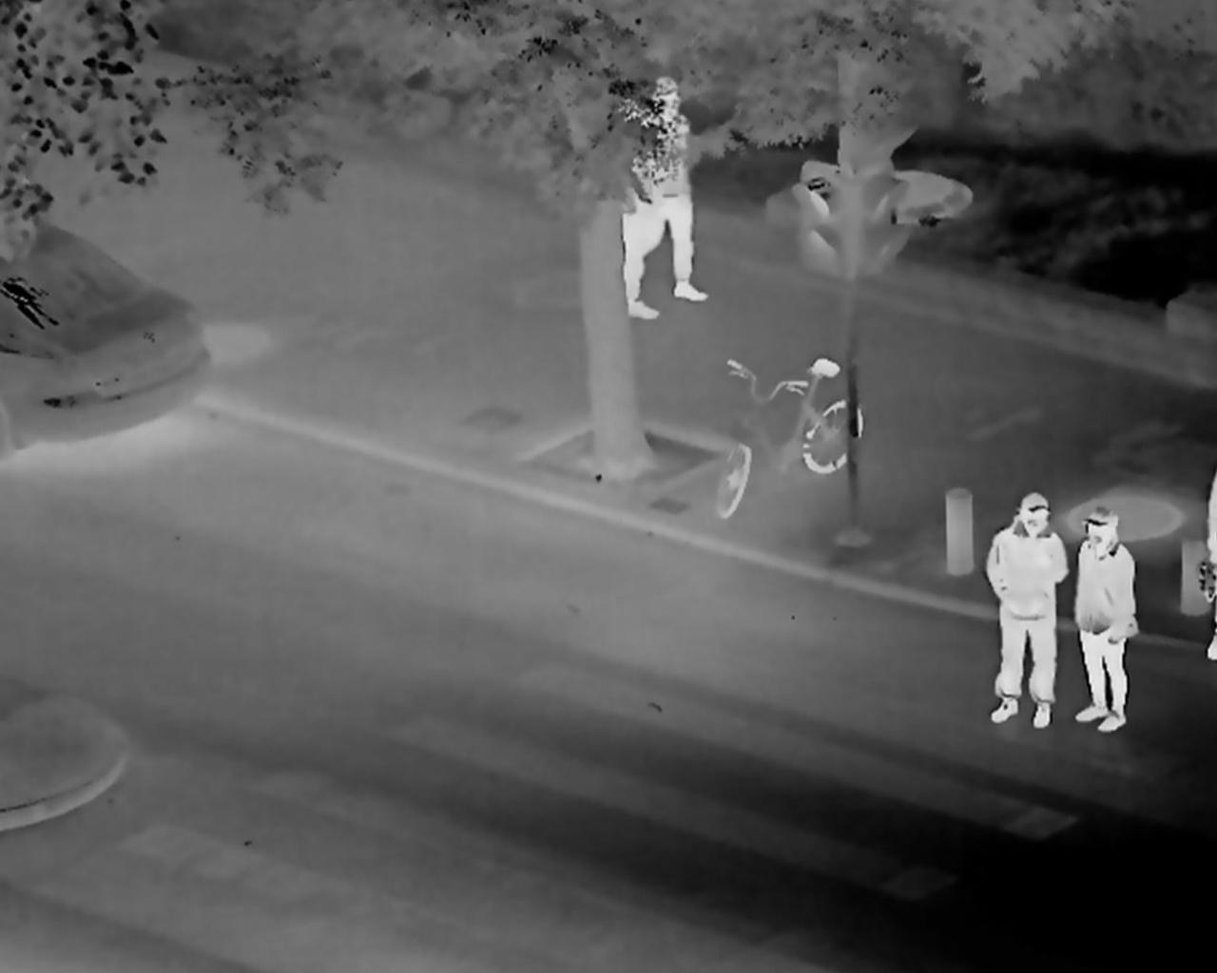person: (984, 488, 1063, 732), (626, 78, 705, 315), (1072, 506, 1137, 736)
